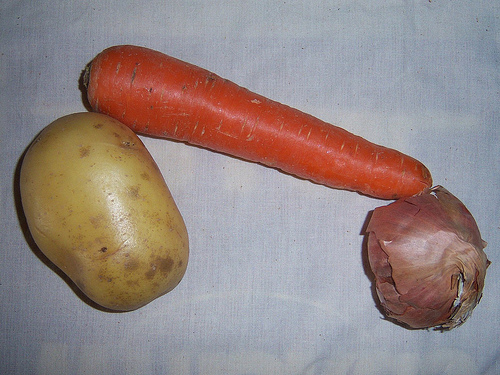onion: (362, 189, 492, 331)
